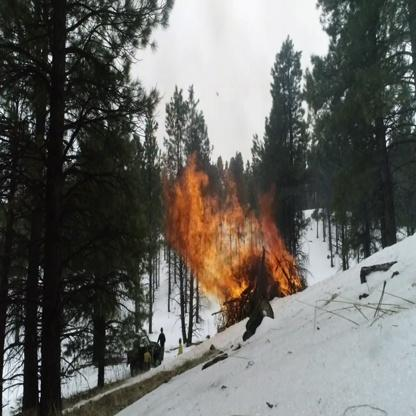Fire: (159, 147, 306, 318)
